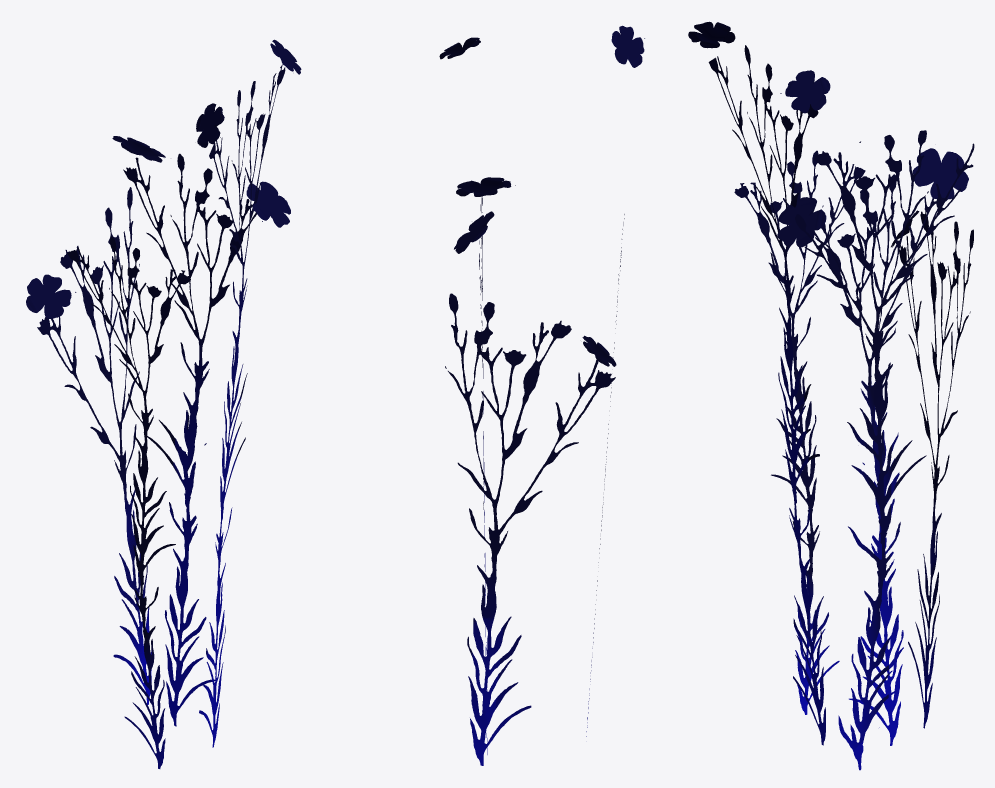
File: SM_Foliage_FlaxA_03.fbx
The picture shows the model from 3 angles, left to right: view 1: azimuth 30°, elevation 25°; view 2: azimuth 150°, elevation 25°; view 3: azimuth 270°, elevation 25°; orthographic projection. The views are drawn at different scales.
Visible parts, largest first — view 1: SM_Foliage_FlaxA_03; view 2: SM_Foliage_FlaxA_03; view 3: SM_Foliage_FlaxA_03.
Part boxes in pixels (left/top/right/bottom): SM_Foliage_FlaxA_03: left=26, top=39, right=301, bottom=768; SM_Foliage_FlaxA_03: left=439, top=25, right=644, bottom=765; SM_Foliage_FlaxA_03: left=688, top=21, right=974, bottom=770.
Size of the model in its own units: 40.48 by 41.52 by 108.
